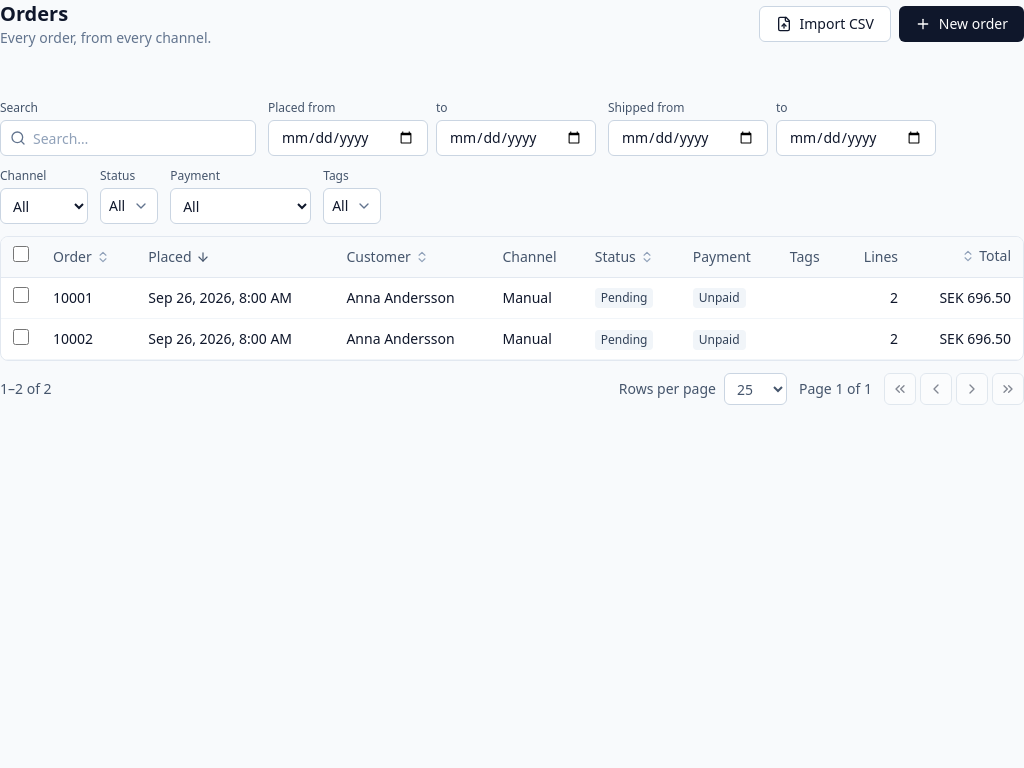
Test case: the order list › prints packing slips for the selected orders
Expected: the link "10001" is shown, [53,288,93,307]
Step 1. Click the checkbox named "10001" → click(21, 295), box [13,287,29,303]
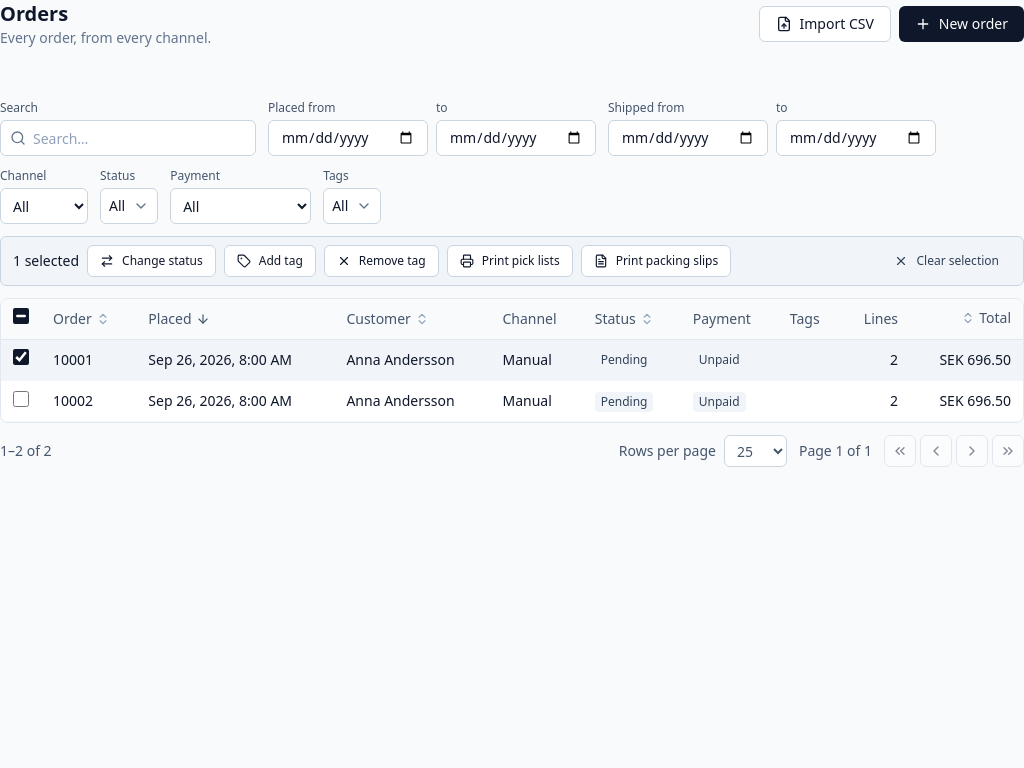
Step 2. Click the checkbox named "10002" → click(21, 398), box [13,390,29,406]
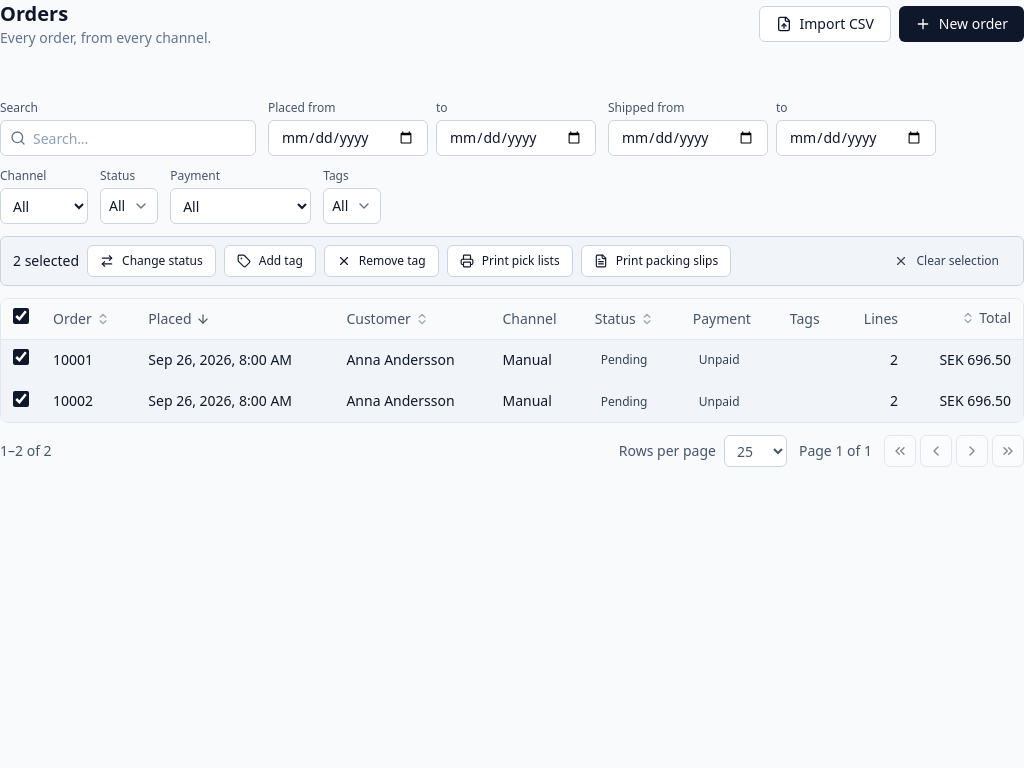
Step 3. Click the button "Print packing slips" → click(656, 261), box [581,245,731,277]
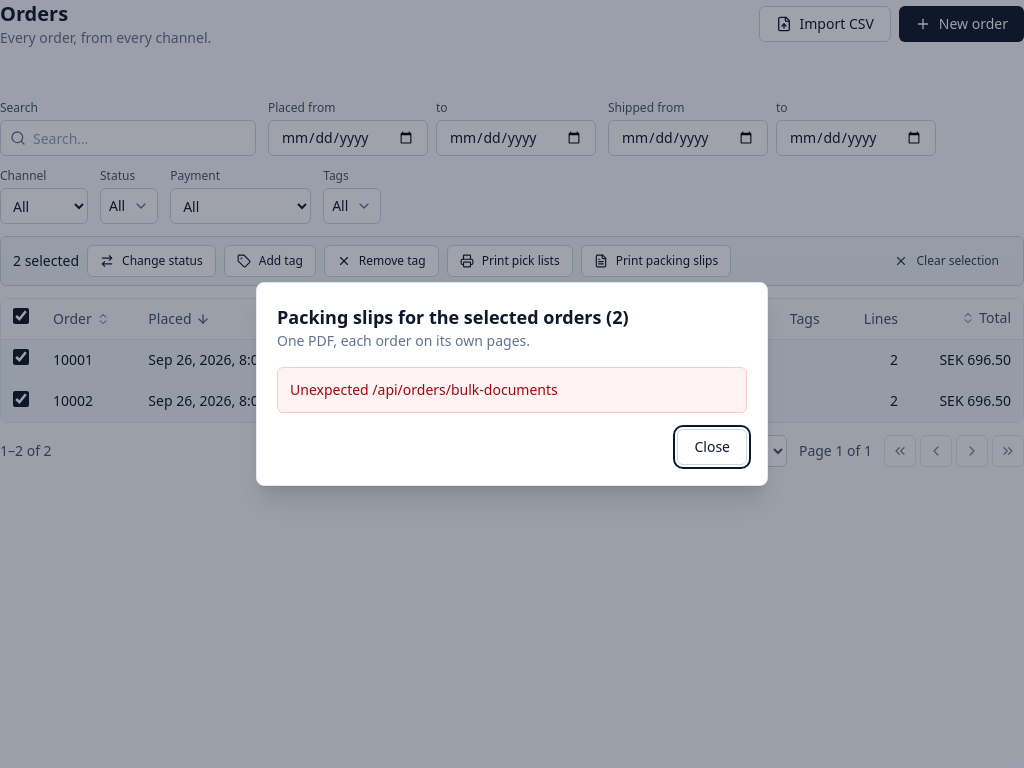
Expected: the dialog "Packing slips for the selected orders (2)" is shown, [256,282,768,486]
